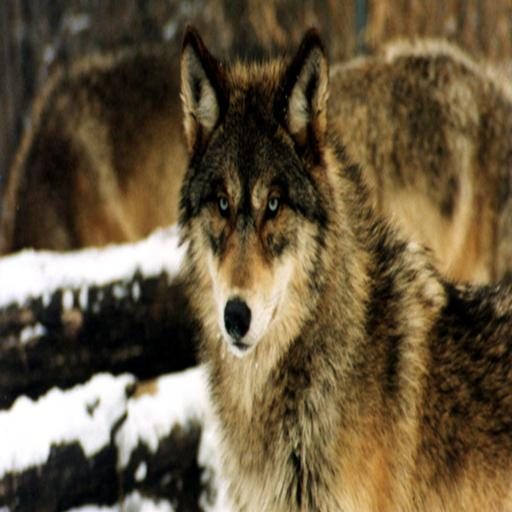Wolf: (163, 24, 512, 512)
